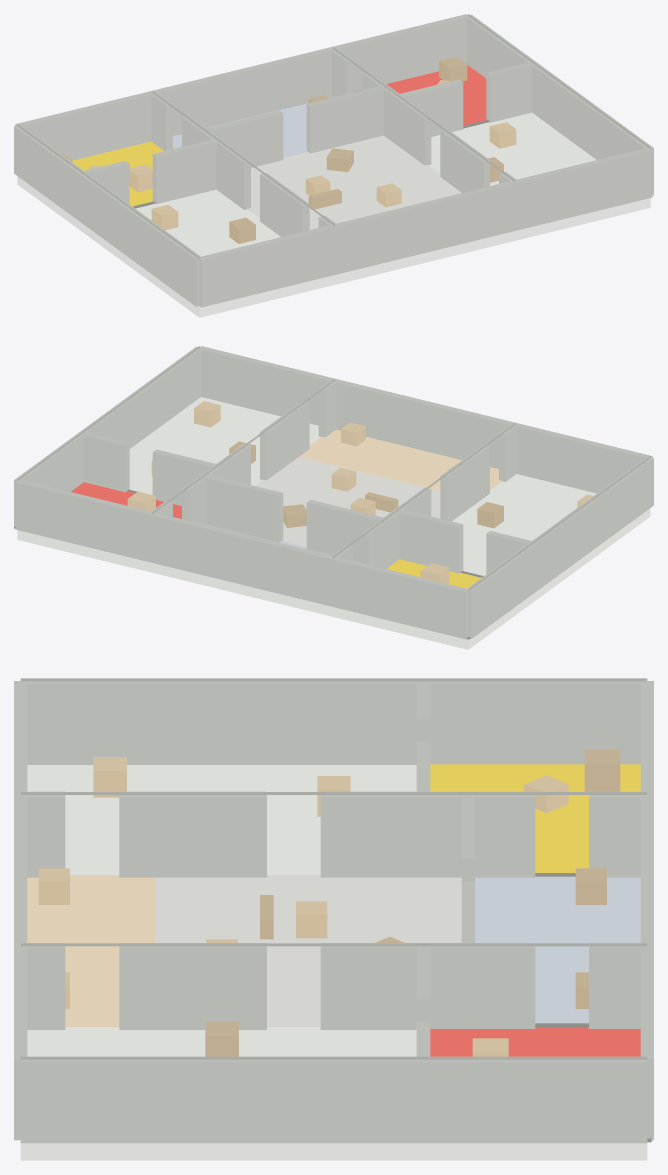
Rendered from map-depot.glb.
3 renders of one model, top to bottom at view 1: azimuth 30°, elevation 25°; view 2: azimuth 150°, elevation 25°; view 3: azimuth 270°, elevation 25°, orthographic. The views are drawn at different scales.
Visible parts, largest first — view 1: Level, Cover; view 2: Level, Cover; view 3: Level, Cover.
Boxes of the visible parts, x1=… form: Level: x1=14, y1=14, x2=653, y2=317; Cover: x1=60, y1=56, x2=516, y2=243; Level: x1=14, y1=346, x2=653, y2=649; Cover: x1=127, y1=401, x2=592, y2=583; Level: x1=14, y1=678, x2=653, y2=1160; Cover: x1=38, y1=750, x2=620, y2=1056.
Bounding box in the file's own units: 40.6 × 5.11 × 28.6.
